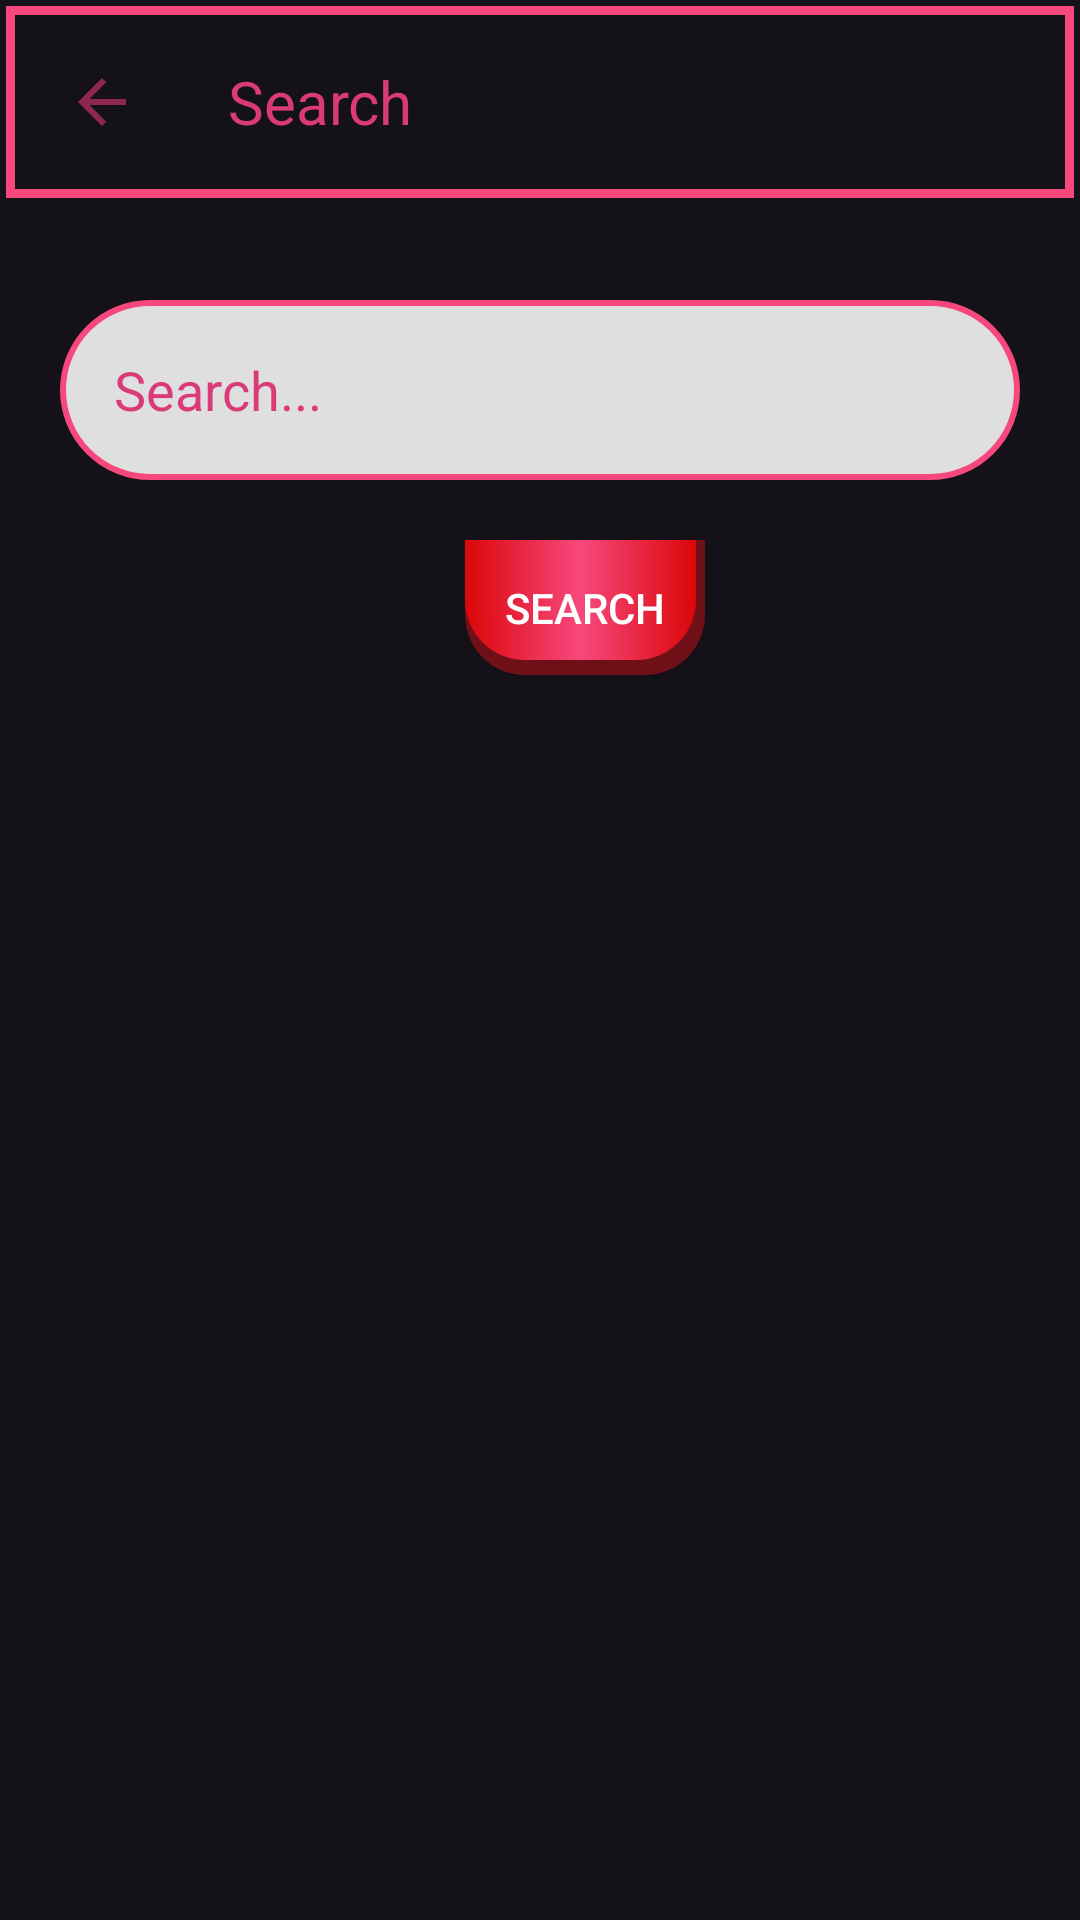

Screen size 1080 × 1920. Icon name, then its box in pixels as (x1, y1, x2, y2):
arrow back: (78, 78, 126, 126)
